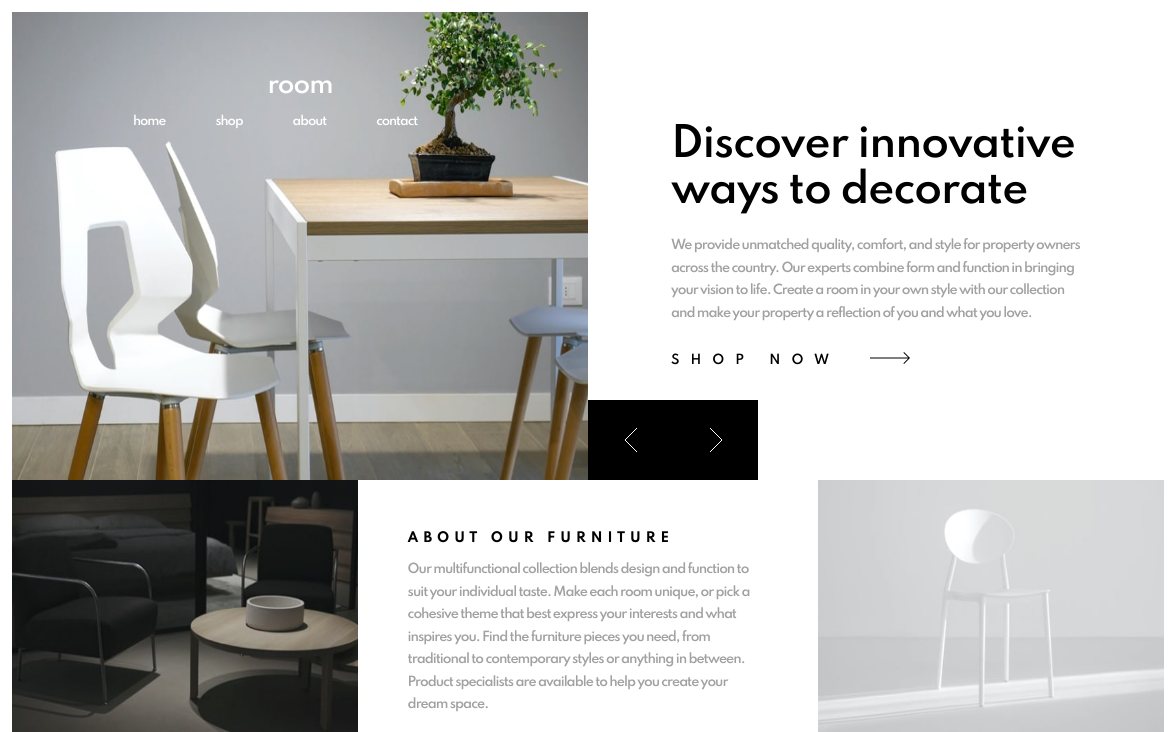
test App change slide for text and image › test text change when click on right arrow div when arrived to final item
Check: the heading with test id "article-title" reads "Discover innovative ways to decorate", box [671,123,1075,213]
Check: the text with test id "article-text" shows "We provide unmatched quality, comfort, and style for property owners across the country. Our experts combine form and function in bringing your vision to life.", box [671,238,1080,320]
Click the button with test id "right-arrow" at (716, 440), box [673,400,758,480]
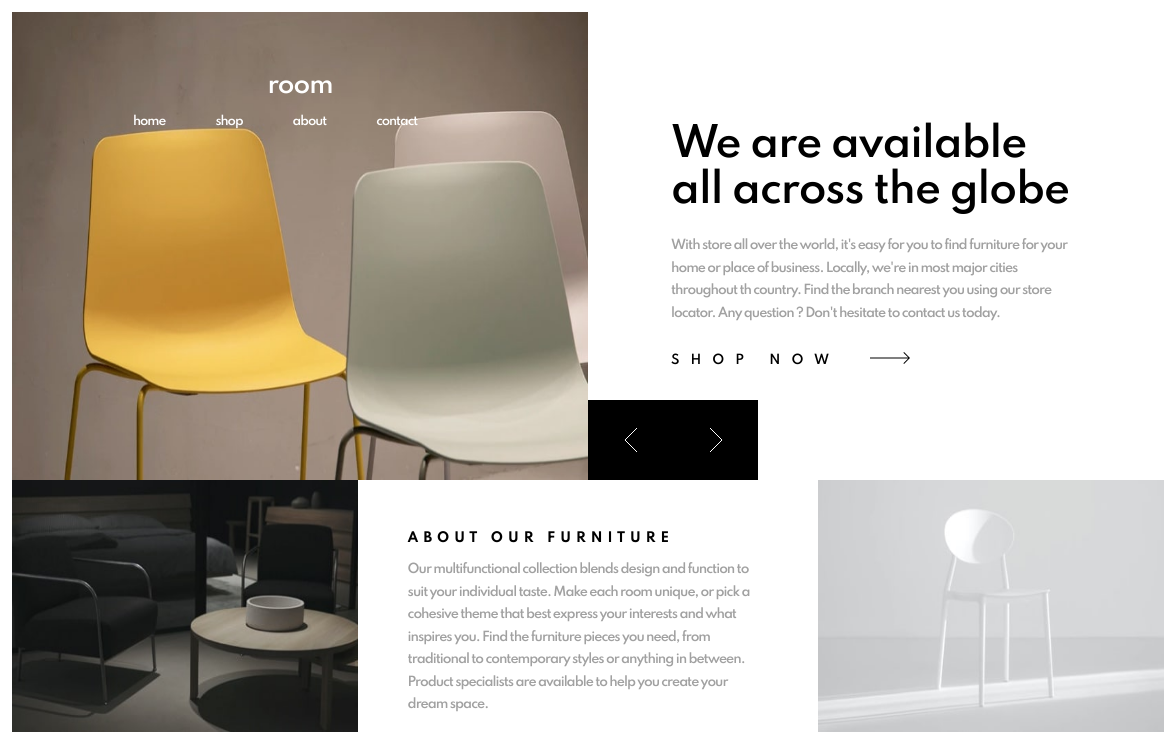
Click the button with test id "right-arrow" at (716, 440), box [673,400,758,480]
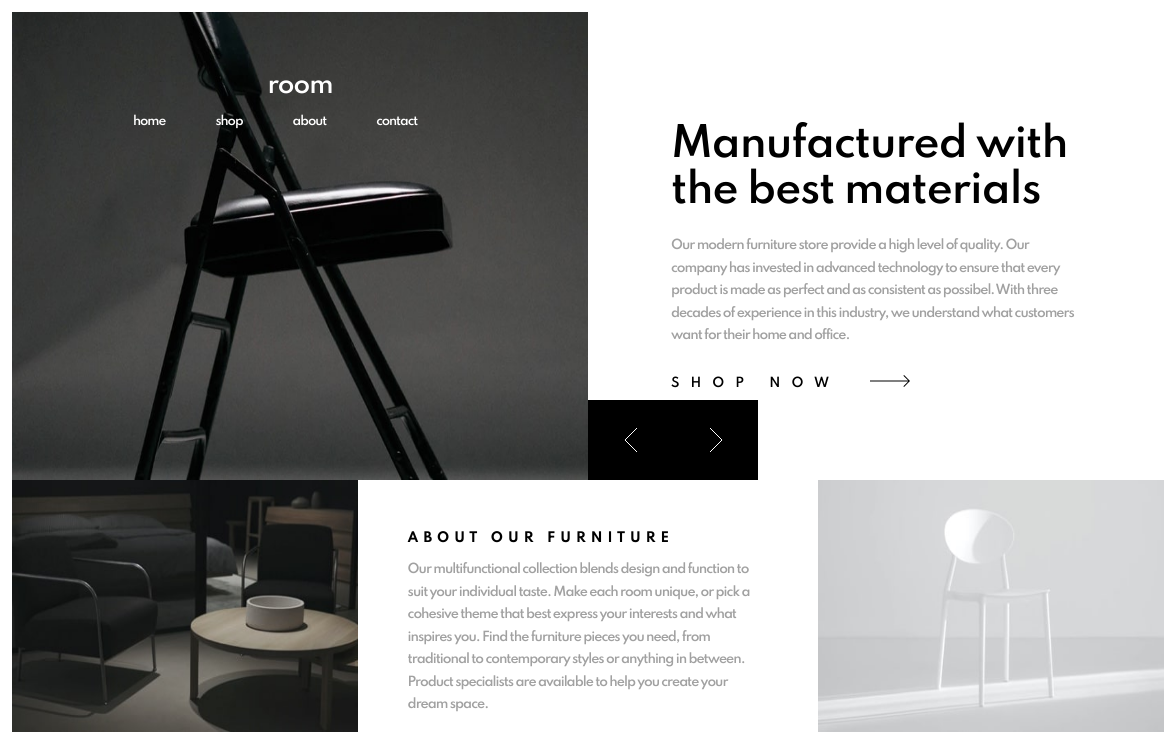
Check: the heading with test id "article-title" reads "Manufactured with the best materials", box [671,123,1068,213]
Check: the text with test id "article-text" shows "Our modern furniture store provide a high level of quality. Our company has invested in advanced technology to ensure that every product is made as perfect and", box [671,238,1074,342]
Click the button with test id "right-arrow" at (716, 440), box [673,400,758,480]
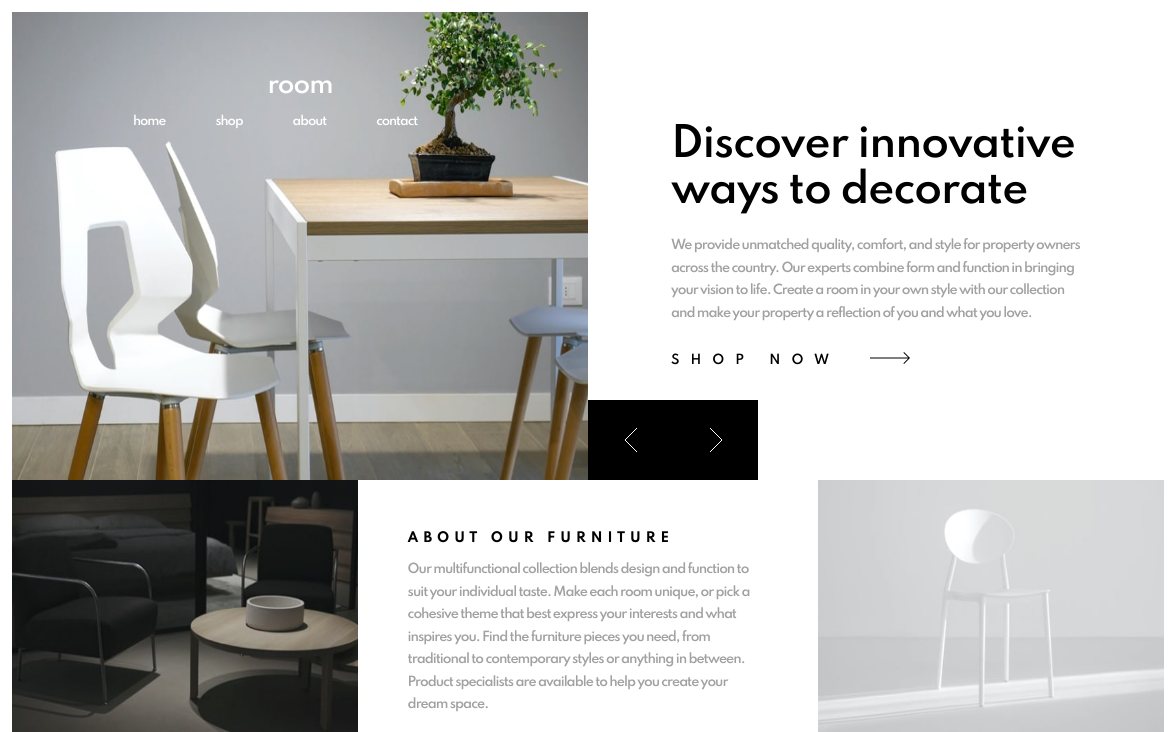
Check: the heading with test id "article-title" reads "Discover innovative ways to decorate", box [671,123,1075,213]
Check: the text with test id "article-text" shows "We provide unmatched quality, comfort, and style for property owners across the country. Our experts combine form and function in bringing your vision to life.", box [671,238,1080,320]
